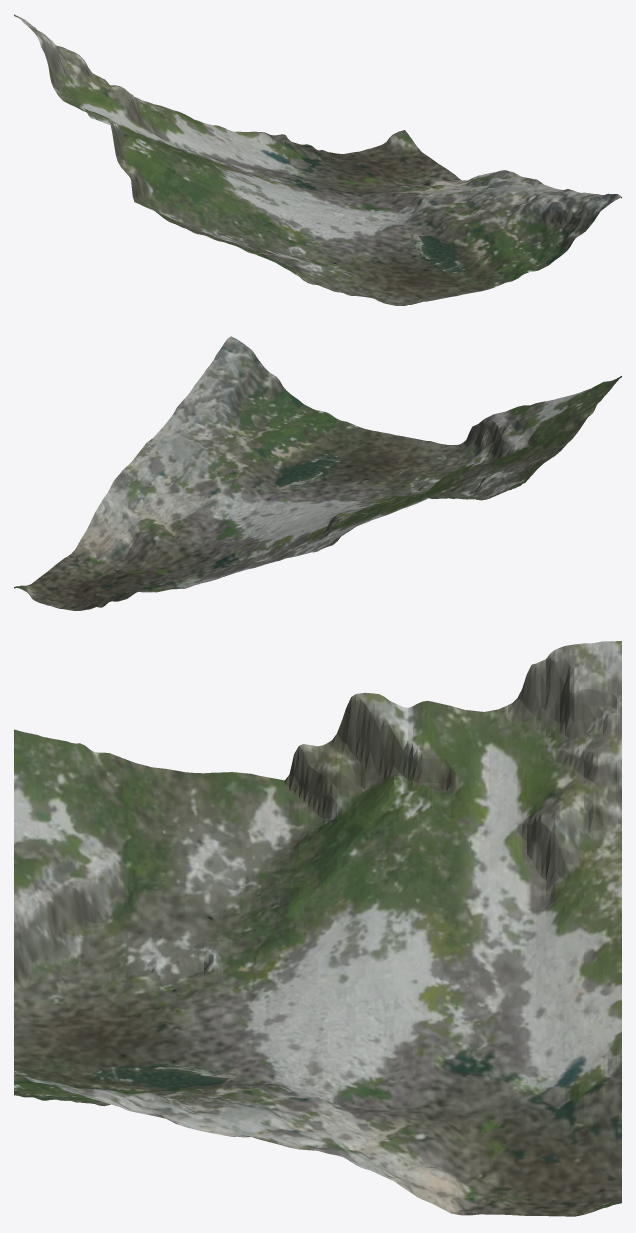
The picture shows the model from 3 angles, top to bottom: view 1: azimuth 30°, elevation 25°; view 2: azimuth 150°, elevation 25°; view 3: azimuth 270°, elevation 25°; orthographic projection. The views are drawn at different scales.
Size of the model in its own units: 250 by 136 by 241.
Materials: 1 (1 with a texture image).
